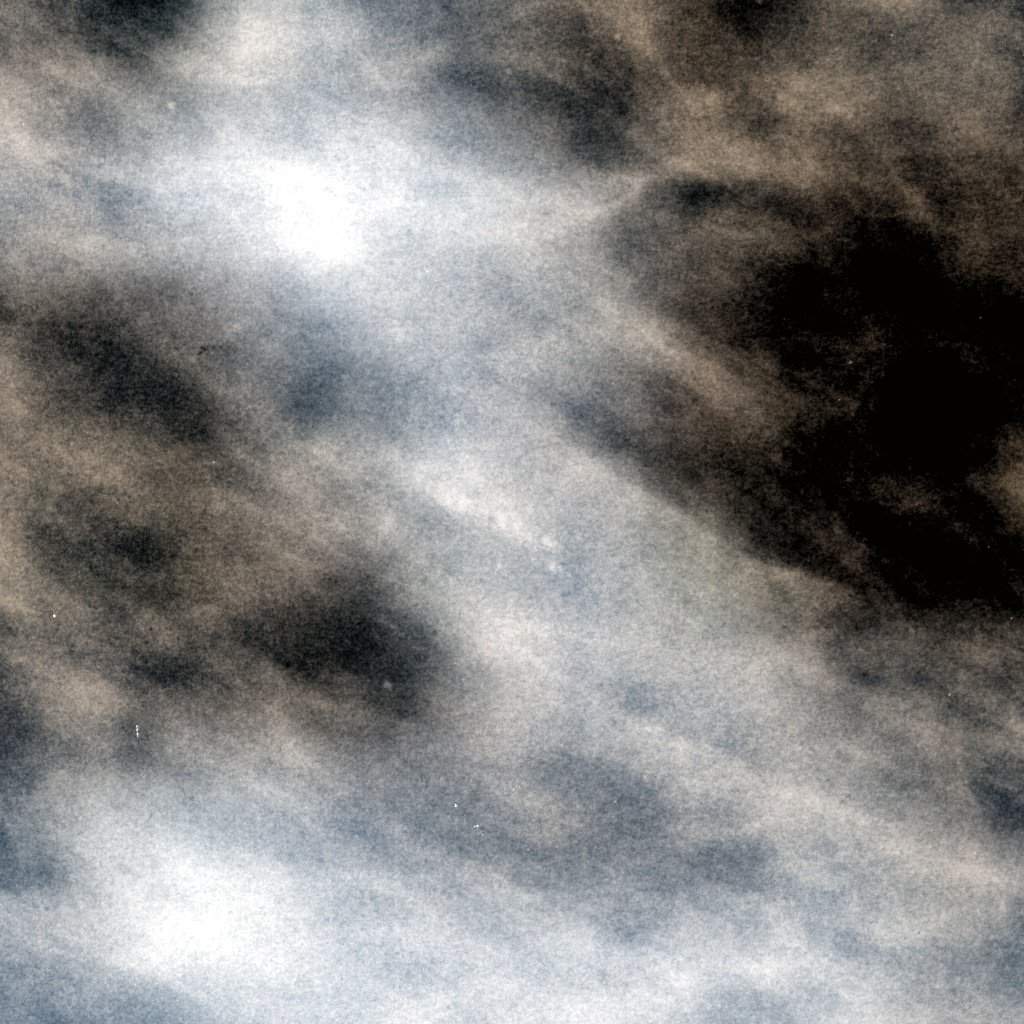tumor: (389, 439, 635, 585)
